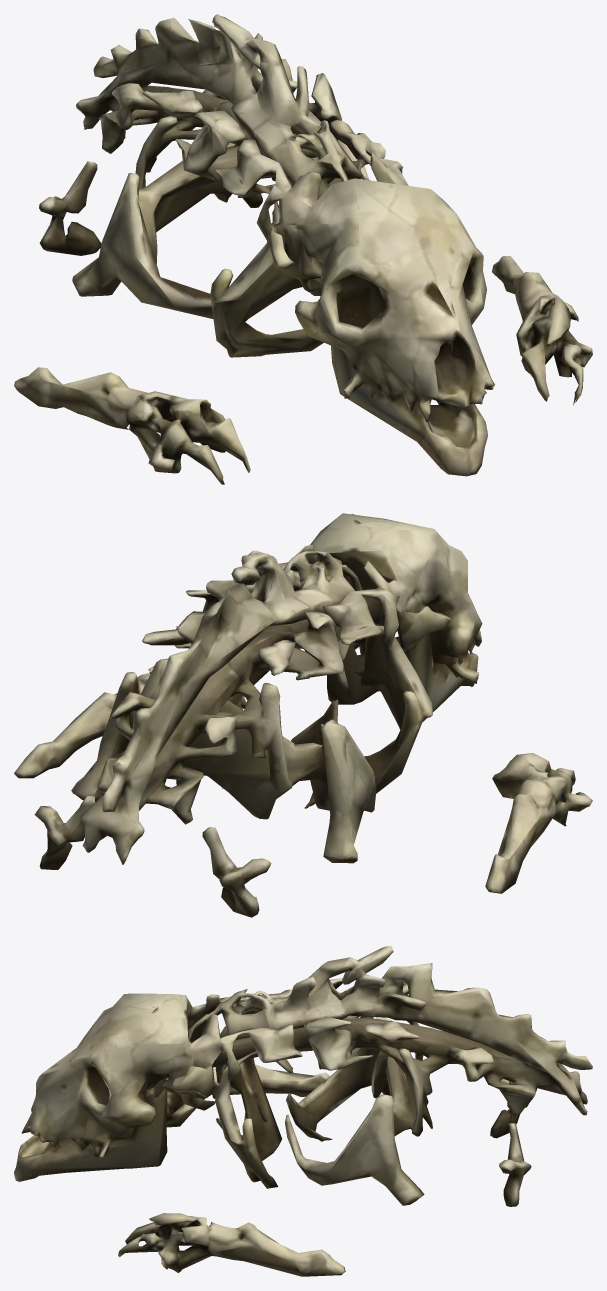
Rendered from cbones.glb.
3 views of the same model, one above another, from view 1: azimuth 30°, elevation 25°; view 2: azimuth 150°, elevation 25°; view 3: azimuth 270°, elevation 25° (orthographic). The views are drawn at different scales.
Parts seen in each view (by area): view 1: tripo_node_79516174; view 2: tripo_node_79516174; view 3: tripo_node_79516174.
Boxes of the visible parts, left/top/right/bottom form: tripo_node_79516174: left=14, top=14, right=592, bottom=484; tripo_node_79516174: left=14, top=513, right=592, bottom=917; tripo_node_79516174: left=14, top=946, right=592, bottom=1276.
Size of the model in its own units: 76.73 by 46.04 by 99.3.
Materials: 1 (1 with a texture image).
